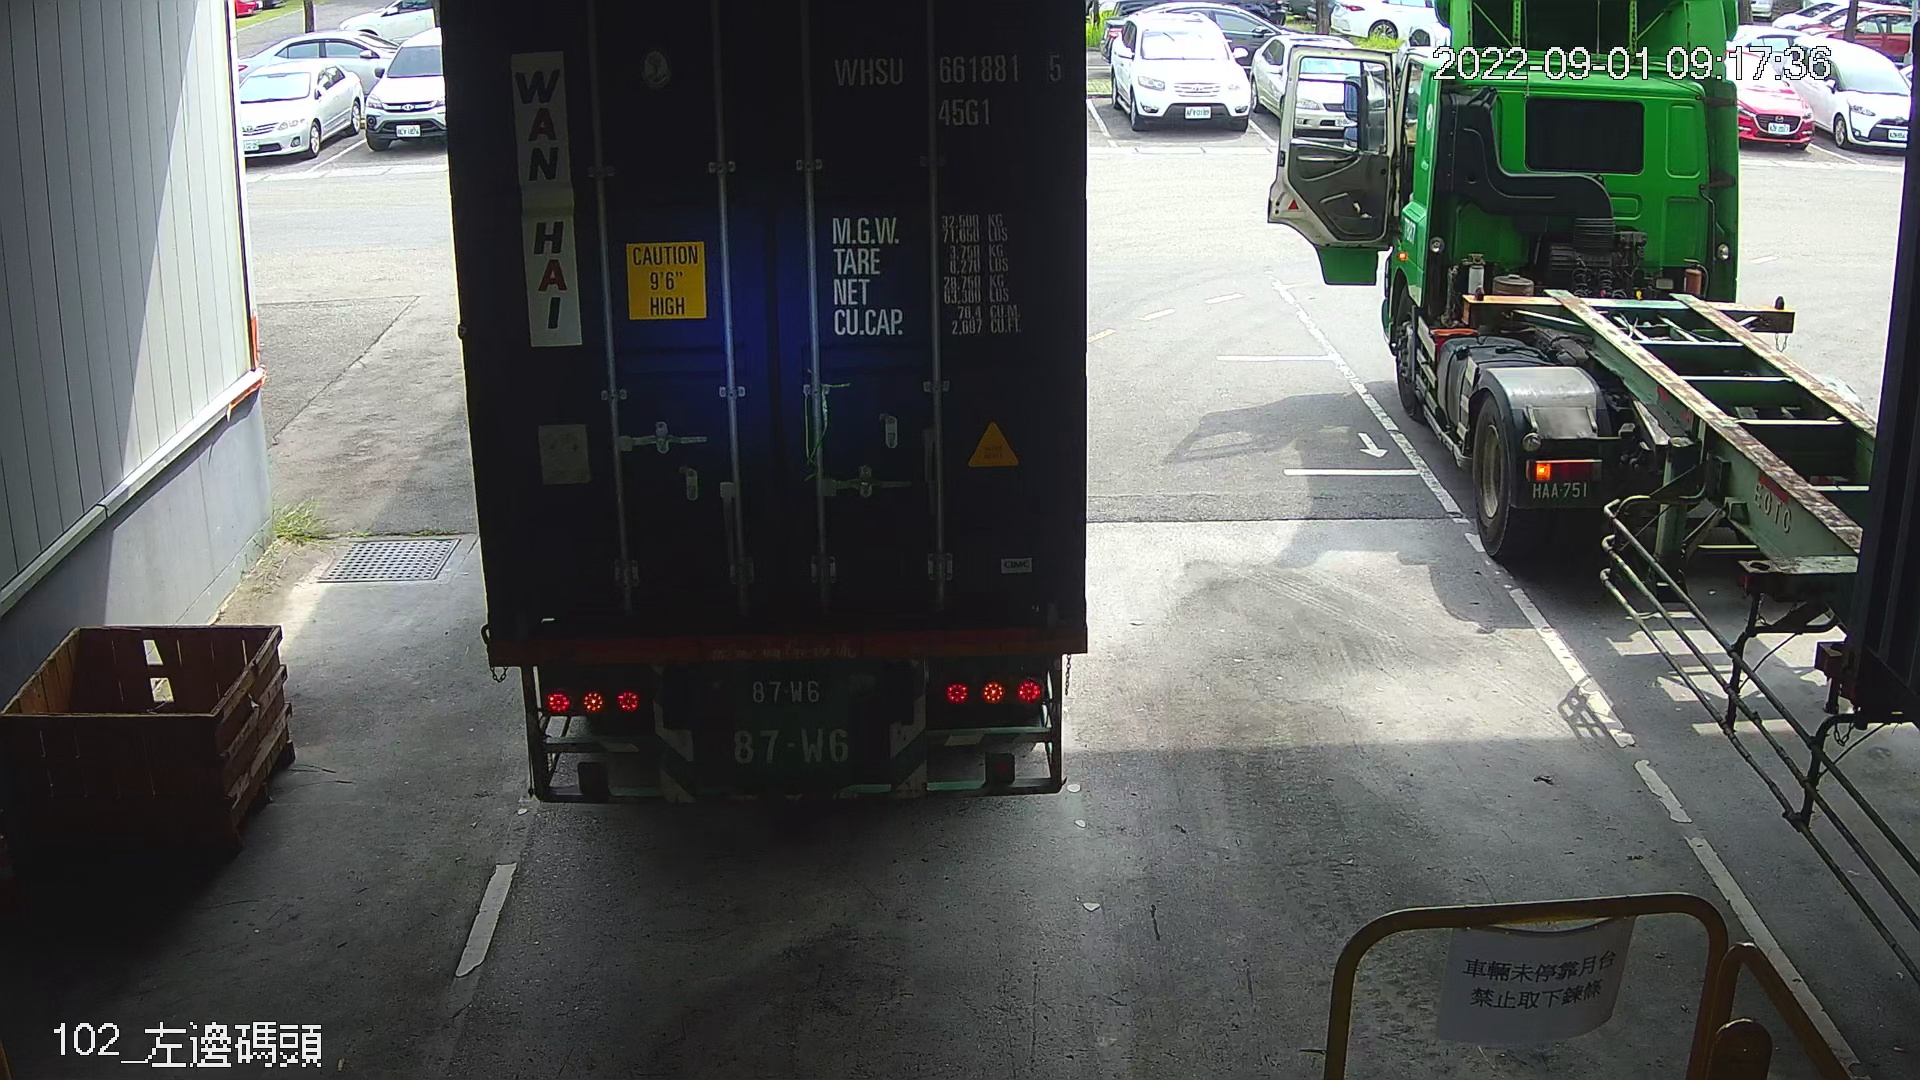container: (823, 44, 1075, 133)
